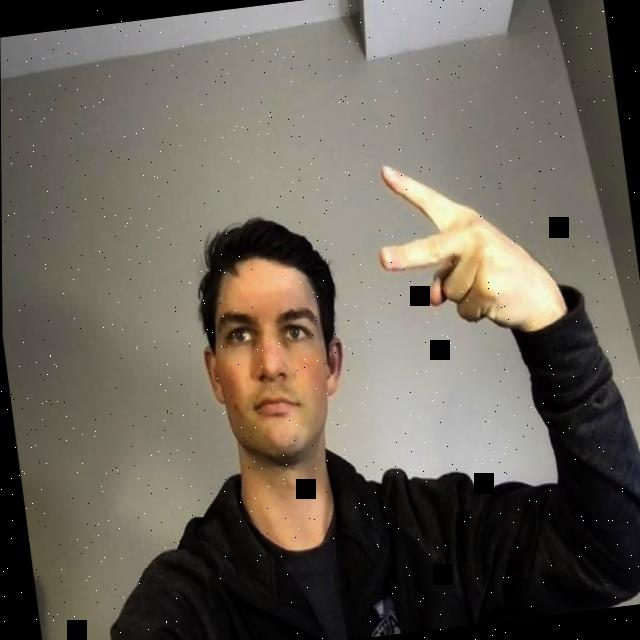Scissors: (368, 142, 565, 376)
